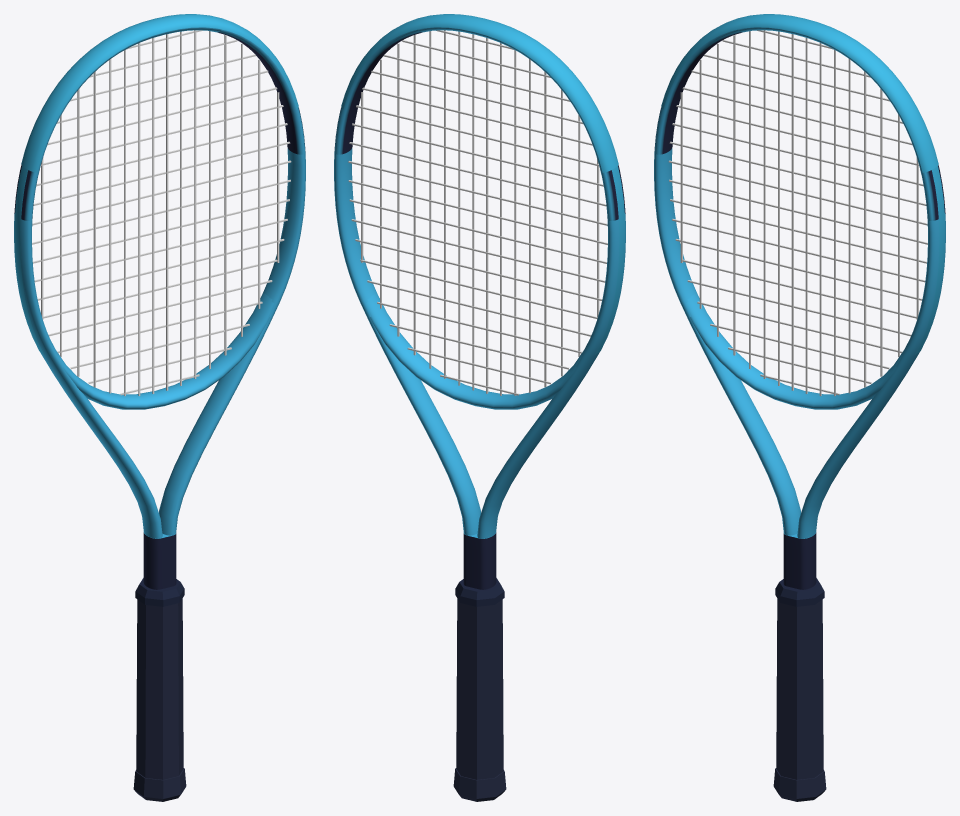
Rendered from head-boom-pro-2026.glb.
The picture shows the model from 3 angles, left to right: view 1: azimuth 30°, elevation 25°; view 2: azimuth 150°, elevation 25°; view 3: azimuth 330°, elevation 25°; orthographic projection.
Parts seen in each view (by area): view 1: frame, strings_mains, strings_crosses, grip, bumper, grommets, butt_cap, collar; view 2: frame, strings_mains, strings_crosses, grip, bumper, grommets, butt_cap, collar; view 3: frame, strings_mains, strings_crosses, grip, bumper, grommets, butt_cap, collar.
Part boxes in pixels (box(x1,y1,x2,y2)): frame: box(14, 27, 305, 589); strings_mains: box(41, 30, 279, 396); strings_crosses: box(32, 30, 291, 395); grip: box(136, 598, 183, 779); bumper: box(21, 14, 298, 172); grommets: box(14, 166, 44, 354); butt_cap: box(133, 768, 186, 801); collar: box(135, 578, 184, 606); frame: box(334, 27, 625, 589); strings_mains: box(361, 30, 599, 395); strings_crosses: box(348, 30, 607, 395); grip: box(456, 598, 503, 779); bumper: box(341, 14, 618, 172); grommets: box(595, 166, 625, 354); butt_cap: box(453, 768, 506, 801); collar: box(455, 578, 504, 606); frame: box(654, 27, 945, 589); strings_mains: box(680, 30, 918, 396); strings_crosses: box(668, 30, 927, 395); grip: box(776, 598, 823, 779); bumper: box(661, 14, 938, 172); grommets: box(915, 166, 945, 354); butt_cap: box(773, 768, 826, 801); collar: box(775, 578, 824, 606).
Size of the model in its own units: 0.2662 by 0.6861 by 0.0396.
